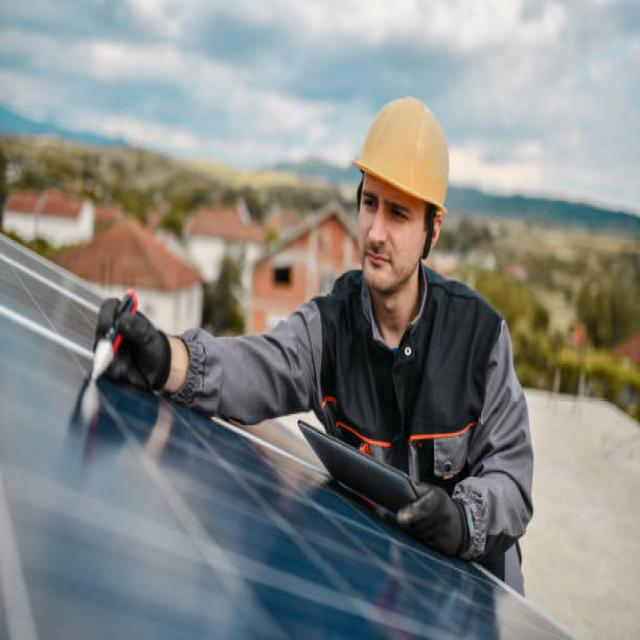Gloves: (87, 291, 182, 394), (396, 480, 489, 555)
helmet: (350, 95, 452, 218)
person: (89, 97, 536, 582)
